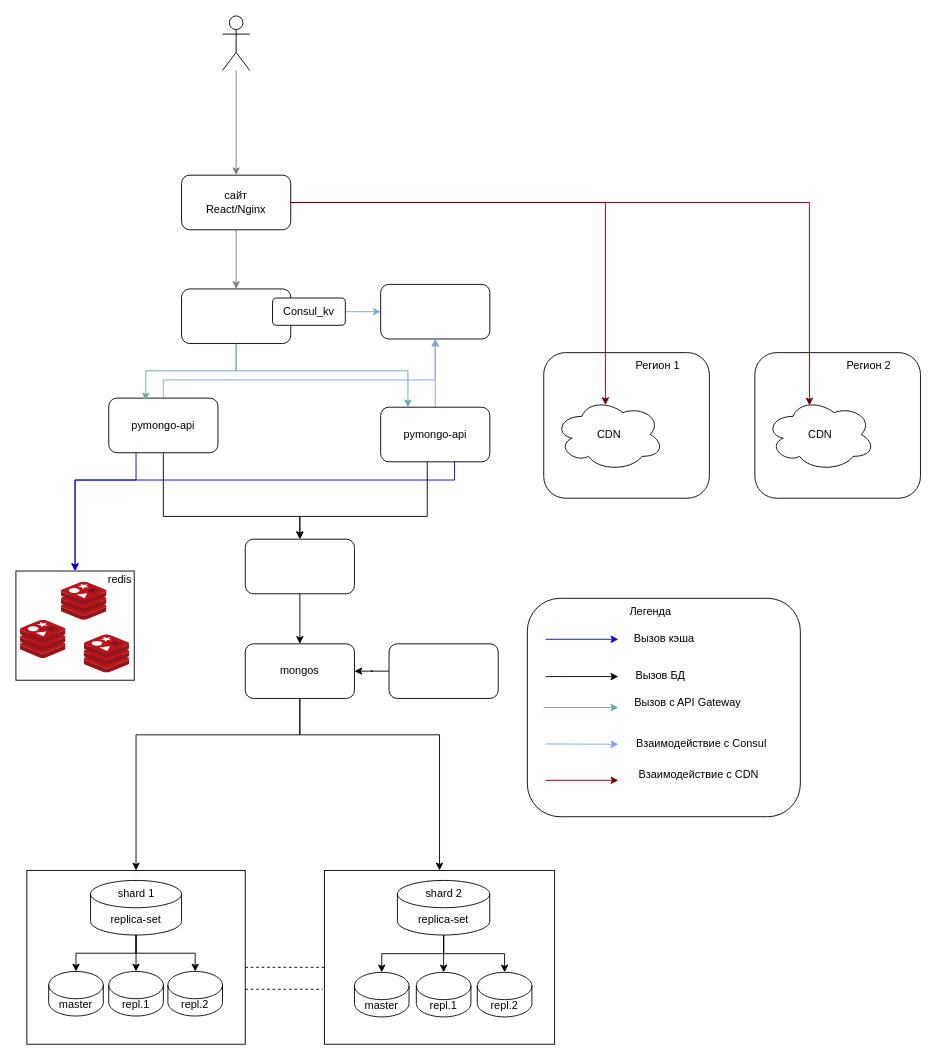
This 936x1060 diagram has some shape labels left out. Each missing label, with the box of its shape:
Api-gateway: (181, 288, 291, 344)
configSrv: (388, 643, 498, 698)
Consul: (380, 283, 490, 339)
драйвер: (244, 538, 354, 594)
пользователь: (222, 15, 250, 71)
